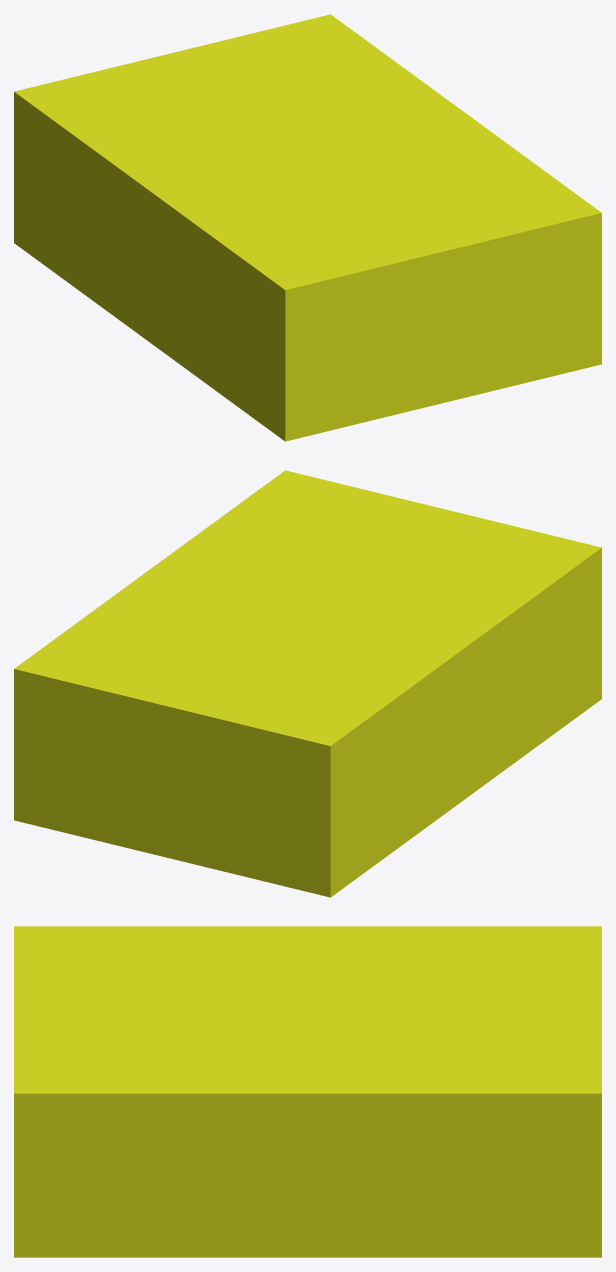
File: shelves.glb
The picture shows the model from 3 angles, top to bottom: view 1: azimuth 30°, elevation 25°; view 2: azimuth 150°, elevation 25°; view 3: azimuth 270°, elevation 25°; orthographic projection. The views are drawn at different scales.
Parts seen in each view (by area): view 1: Body.001; view 2: Body.001; view 3: Body.001.
Boxes of the visible parts, box(x1,y1,x2,y2) form: Body.001: box(14, 14, 601, 441); Body.001: box(14, 470, 601, 897); Body.001: box(14, 926, 601, 1257).
Size of the model in its own units: 0.744 by 0.34 by 1.1.
